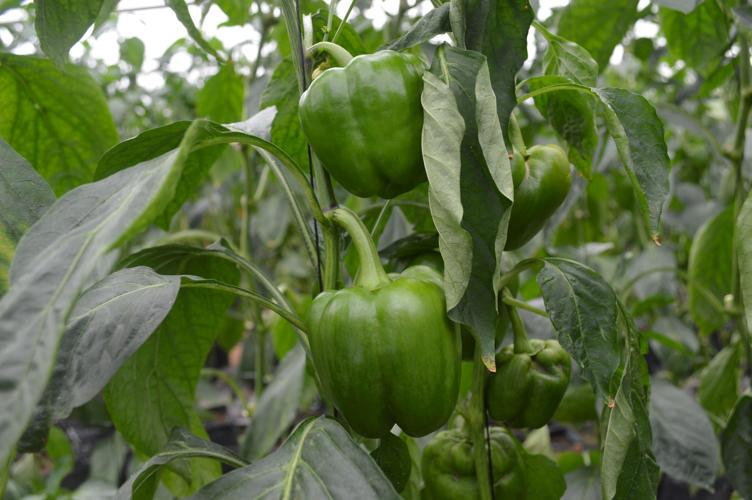BellPepper: (300, 275, 464, 438), (296, 56, 436, 203), (482, 335, 574, 450), (491, 134, 569, 256), (418, 424, 538, 500)
